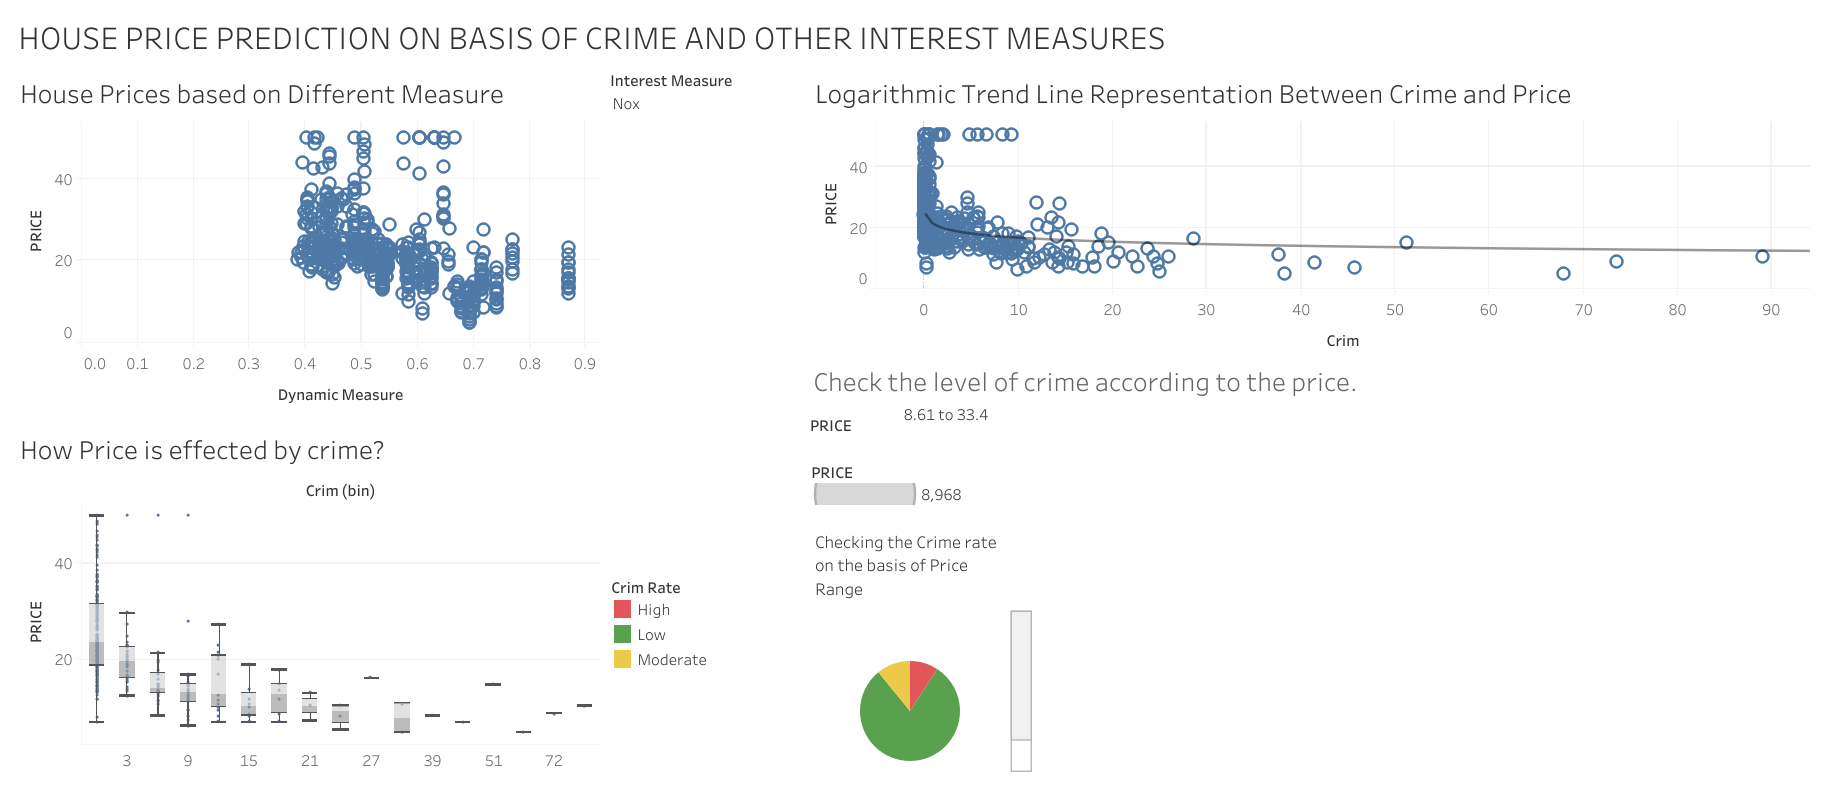

Layout of this report page (visuals, bound fields, positions):
{"tool":"tableau","page":{"name":"Dashboard 1","canvas":[1000,1000],"units":"permille","ordinal":0},"visuals":[{"type":"title","box":[5.2,9.4,989.7,58.7]},{"type":"worksheet","title":"Sheet 2","mark":"Automatic","rows":["medv"],"cols":["Calculation_1645221268588793856"],"box":[5.2,68.1,332.9,461.3]},{"type":"parameter","param":"[Parameters].[Parameter 1]","box":[338.1,68.1,103.2,559.9]},{"type":"worksheet","title":"Sheet 6","mark":"Automatic","rows":["medv"],"cols":["crim"],"box":[441.3,68.1,553.6,390.6]},{"type":"text","box":[441.3,458.7,553.6,42.5]},{"type":"filter","title":"Sheet 5","param":"[federated.0x3yuxp1m9bw2k1cg5jlr0mz7r08].[none:medv:qk]","box":[441.3,501.2,553.6,71.6]},{"type":"worksheet","title":"Sheet 3","mark":"Circle","rows":["medv"],"cols":["Crim (bin)"],"box":[5.2,529.3,332.9,461.3]},{"type":"legend","title":"Sheet 5","param":"[federated.0x3yuxp1m9bw2k1cg5jlr0mz7r08].[sum:medv:qk]","box":[441.3,572.8,553.6,82.2]},{"type":"worksheet","title":"Sheet 5","mark":"Pie","box":[441.3,654.9,553.6,335.7]},{"type":"legend","title":"Sheet 5","param":"[federated.0x3yuxp1m9bw2k1cg5jlr0mz7r08].[none:Calculation_1645221268600033281:n","box":[338.1,721.4,103.2,109.2]}]}

Visuals, with their boxes on the dashboard's canvas, which has no fixed pixel size, in thousandths of its width and height (x1, y1, x2, y2). These are canvas units, not pixel positions in the 1824x785 screenshot, which may show the page scaled, cropped or inside an application window:
title: region(5, 9, 995, 68)
"Sheet 2" worksheet: region(5, 68, 338, 529)
parameter: region(338, 68, 441, 628)
"Sheet 6" worksheet: region(441, 68, 995, 459)
text: region(441, 459, 995, 501)
"Sheet 5" filter: region(441, 501, 995, 573)
"Sheet 3" worksheet (Circle marks): region(5, 529, 338, 991)
"Sheet 5" legend: region(441, 573, 995, 655)
"Sheet 5" worksheet (Pie marks): region(441, 655, 995, 991)
"Sheet 5" legend: region(338, 721, 441, 831)
